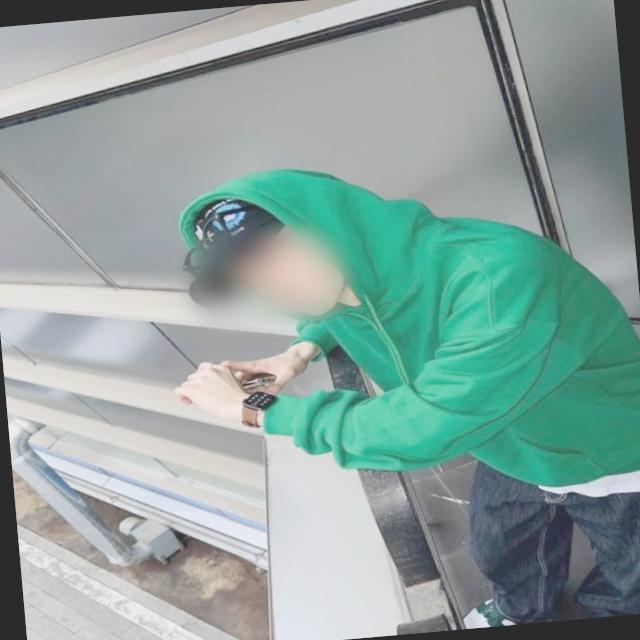denimpants: (457, 439, 640, 627)
hoodies: (174, 138, 640, 519)
